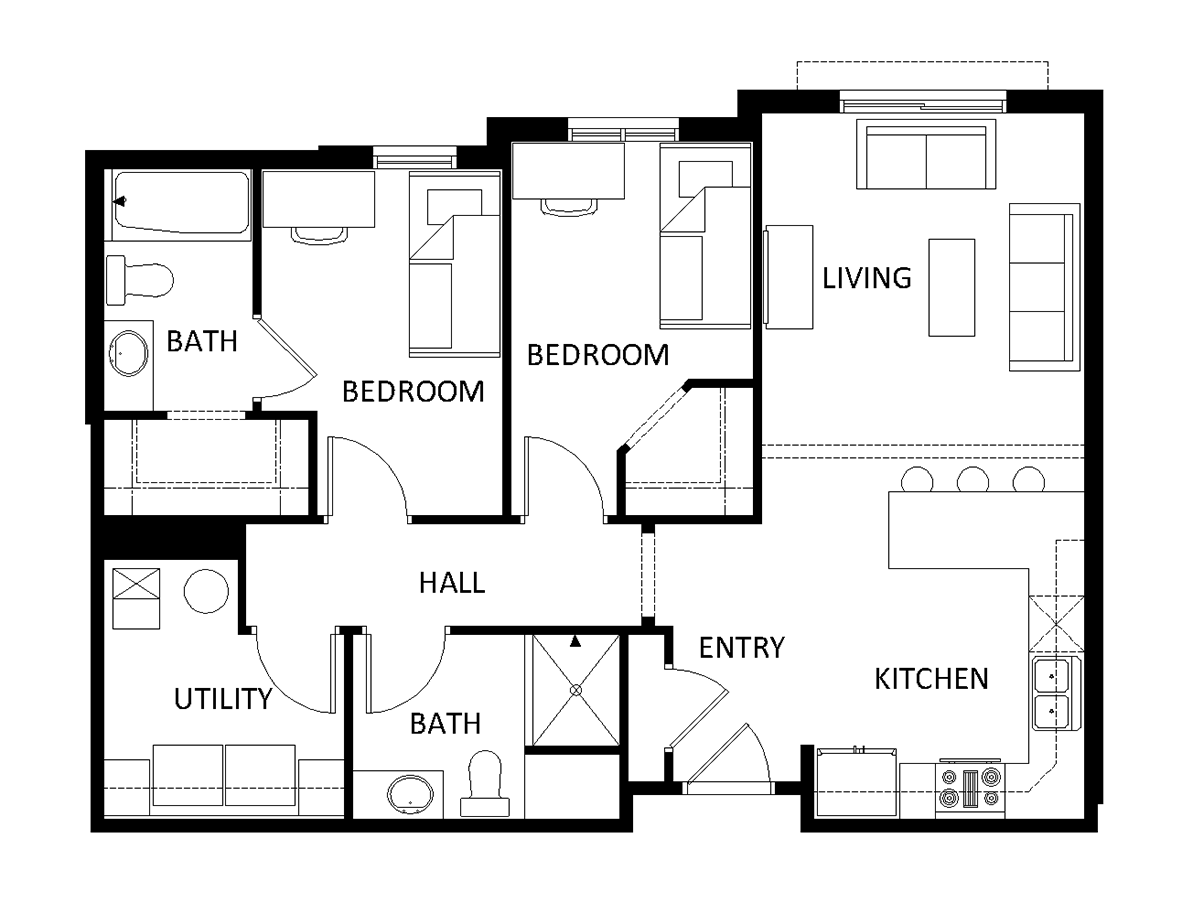door: (321, 429, 414, 510), (519, 433, 612, 514), (251, 637, 344, 718), (358, 639, 451, 720)
room: (752, 92, 1103, 436), (800, 458, 1100, 831), (503, 117, 765, 389), (253, 152, 510, 421), (345, 627, 628, 833), (85, 150, 261, 419)
window: (839, 88, 1007, 114), (567, 117, 679, 144), (372, 145, 457, 169)
